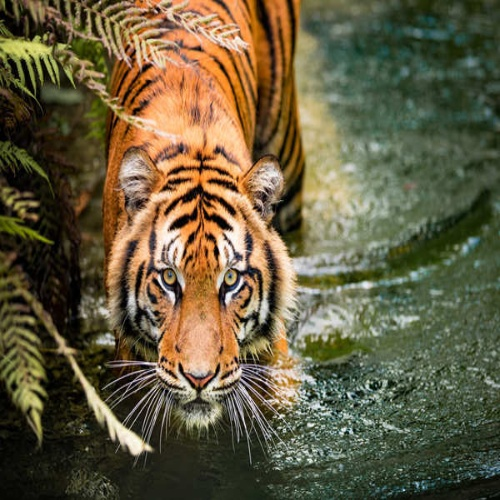tiger: (85, 1, 329, 453)
